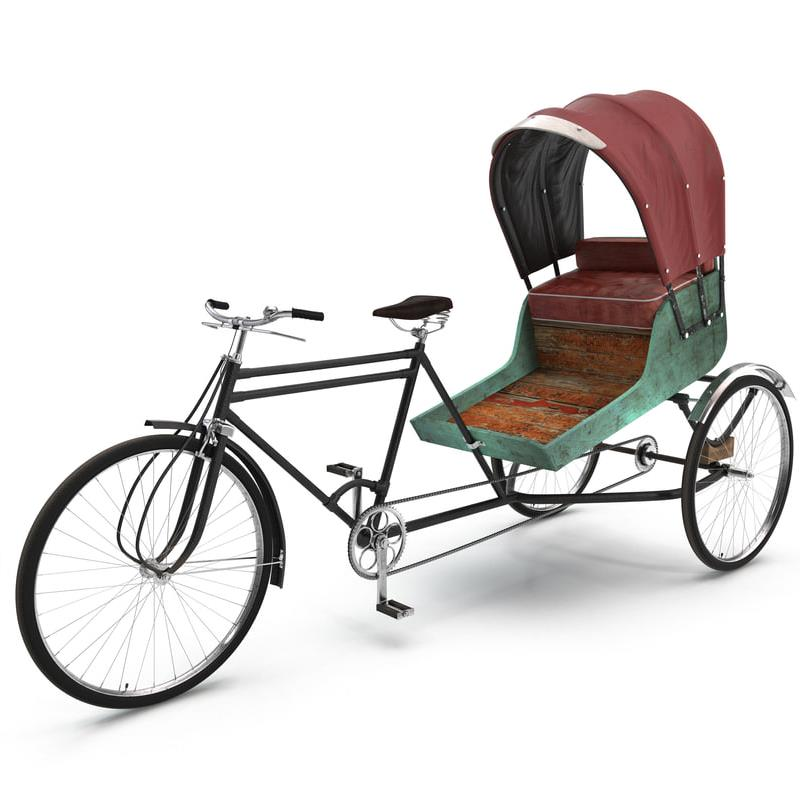Rickshaw: (33, 70, 784, 710)
